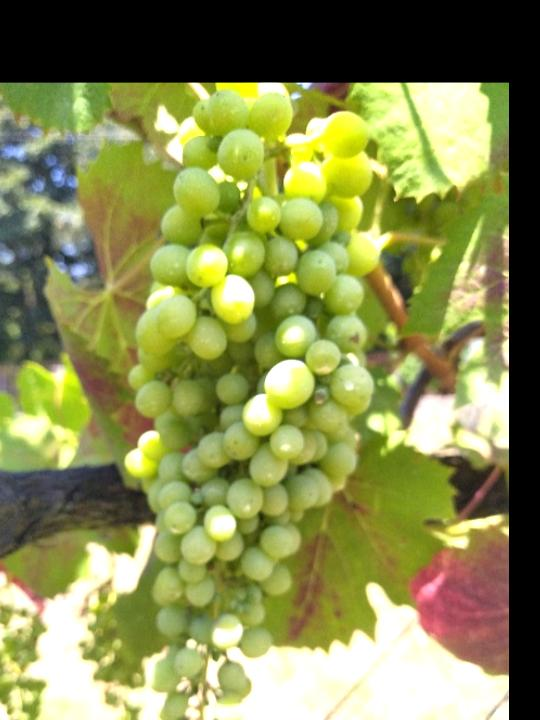grape: (122, 55, 382, 720)
